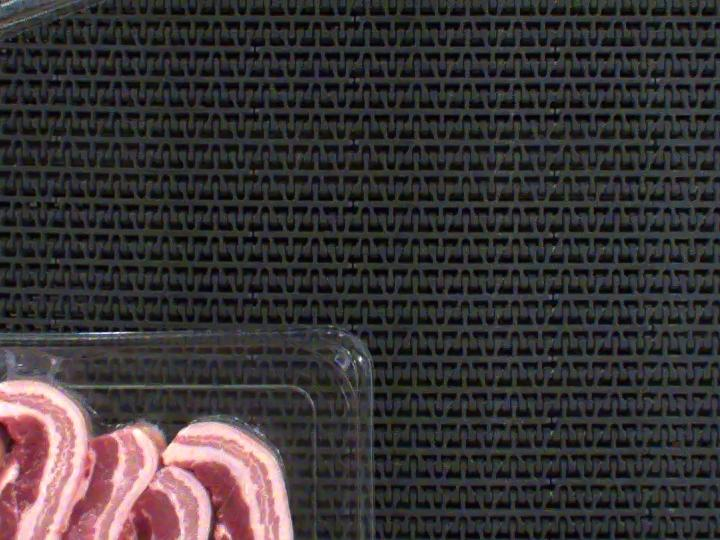packaging-error: (0, 345, 71, 379)
unsealed: (99, 404, 286, 458)
